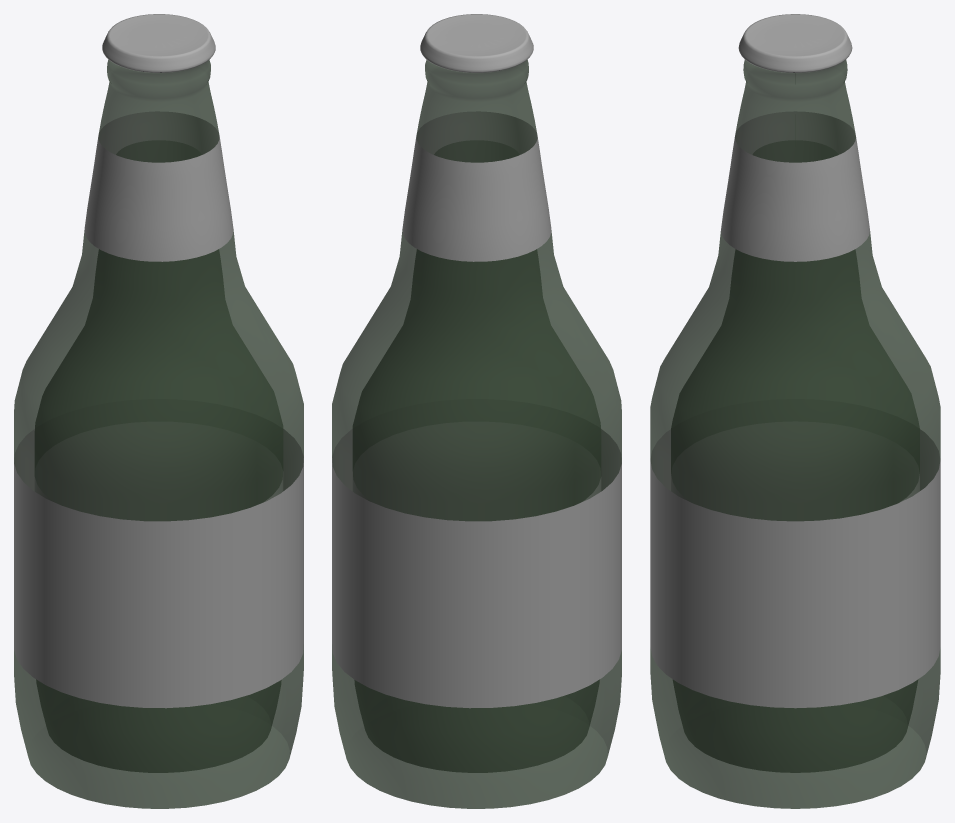
The model's file is BeerGeo.fbx.
3 views of the same model, side by side, from view 1: azimuth 30°, elevation 25°; view 2: azimuth 150°, elevation 25°; view 3: azimuth 270°, elevation 25° (orthographic).
Parts seen in each view (by area): view 1: polySurface2, polySurface1; view 2: polySurface2, polySurface1; view 3: polySurface2, polySurface1.
Boxes of the visible parts, <box> form: polySurface2: <box>14,14,303,808</box>; polySurface1: <box>34,140,283,772</box>; polySurface2: <box>332,14,621,808</box>; polySurface1: <box>352,140,601,772</box>; polySurface2: <box>650,14,940,808</box>; polySurface1: <box>671,140,919,772</box>.
Bounding box in the file's own units: 29.37 × 80.21 × 29.37.
